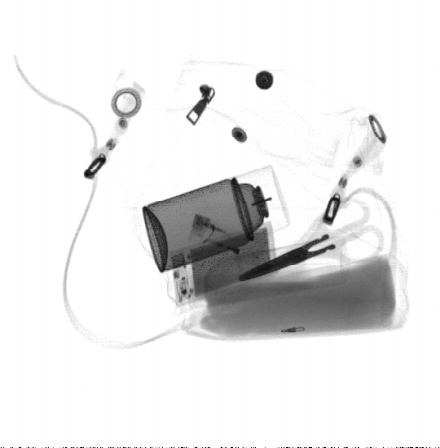Lighter: (188, 211, 267, 264)
Powerbank: (170, 220, 281, 309)
Scissors: (237, 196, 383, 286)
Sprayer: (141, 164, 293, 276)
